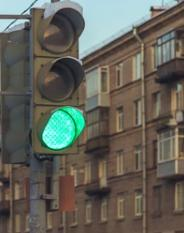green_light: (30, 8, 86, 154)
